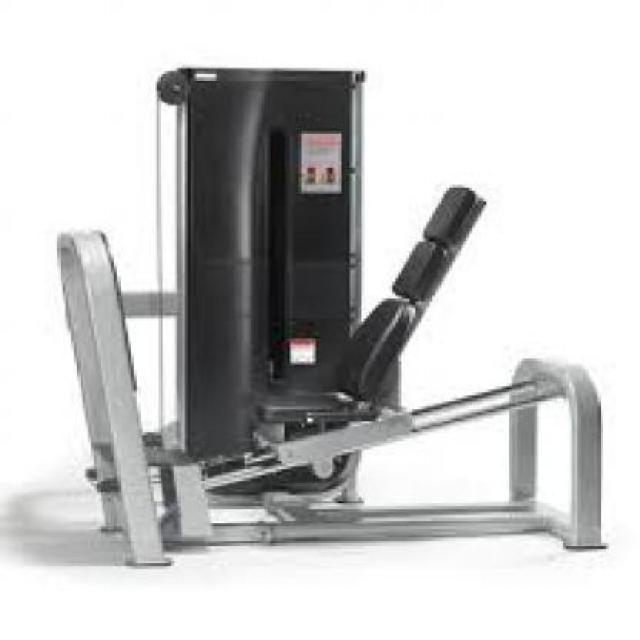leg press: (46, 56, 611, 564)
